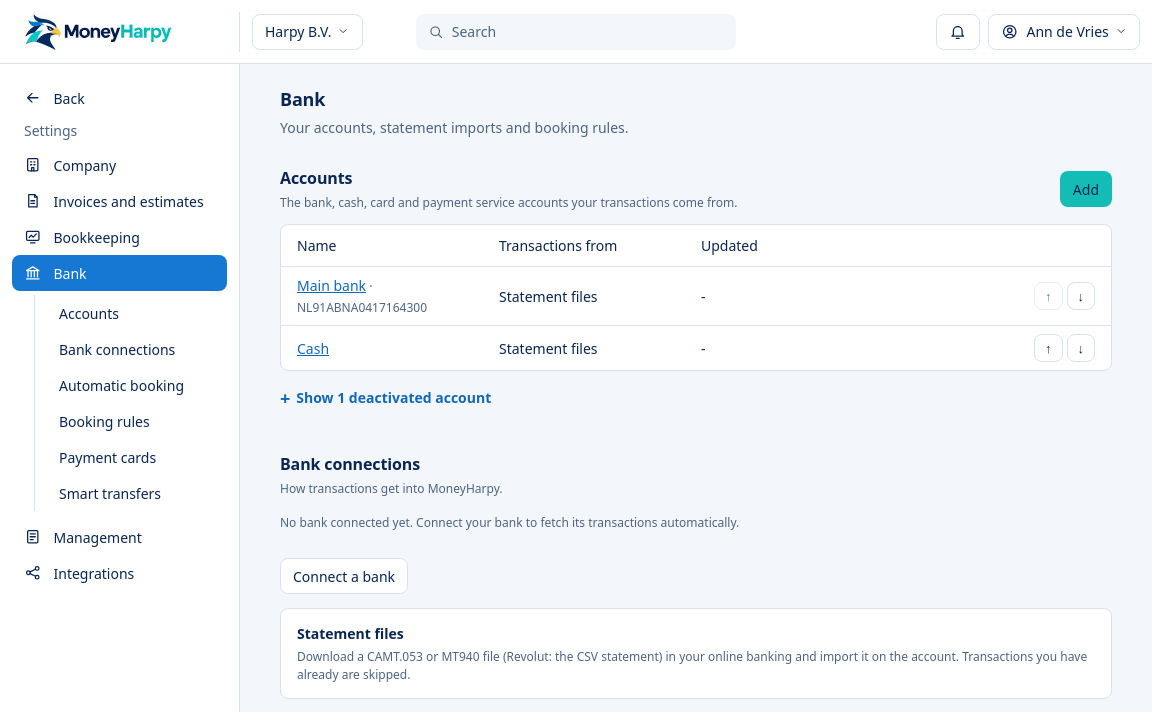
Test case: bank settings › lists accounts, hides deactivated ones and reorders
The width and height of the screenshot is (1152, 712).
Later steps or results of the test are not shown.
Expected: the link "Old bank" is not shown
Click the button "Show 1 deactivated account".
click(386, 398)  # box left=280, top=383, right=491, bottom=412
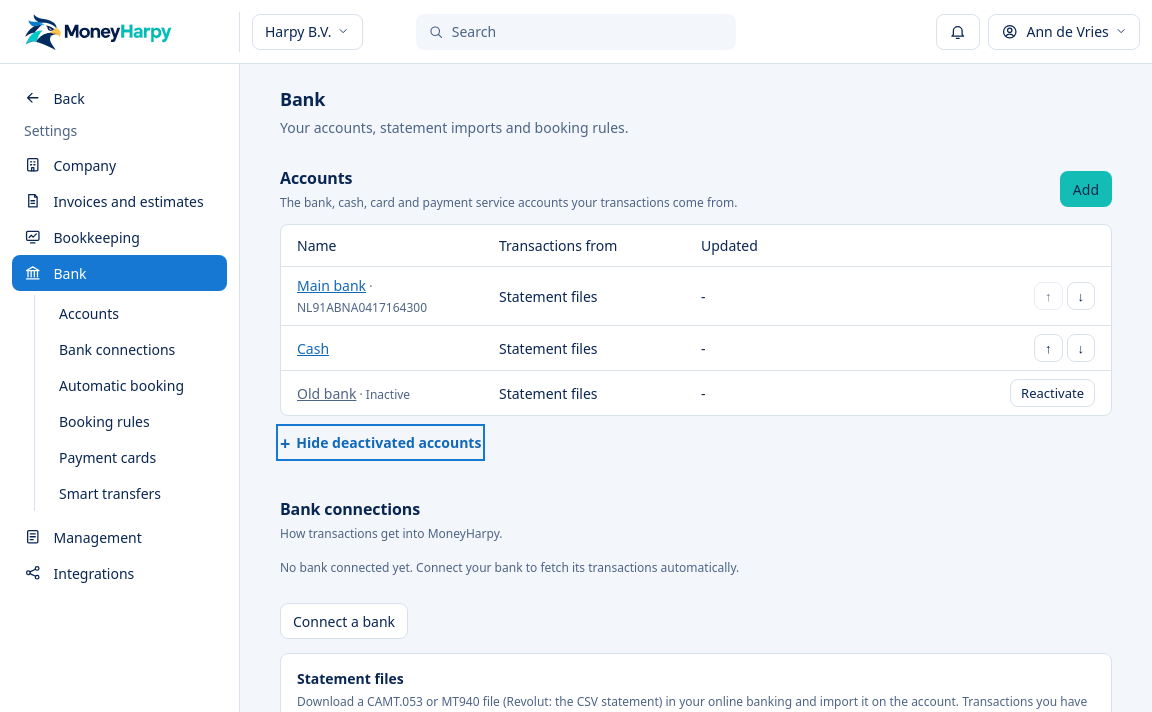
Expected: the button named "Move Main bank up" is disabled, left=1034, top=282, right=1062, bottom=310
Expected: the button with aria-label "Reactivate Old bank" is shown, left=1010, top=379, right=1095, bottom=407
